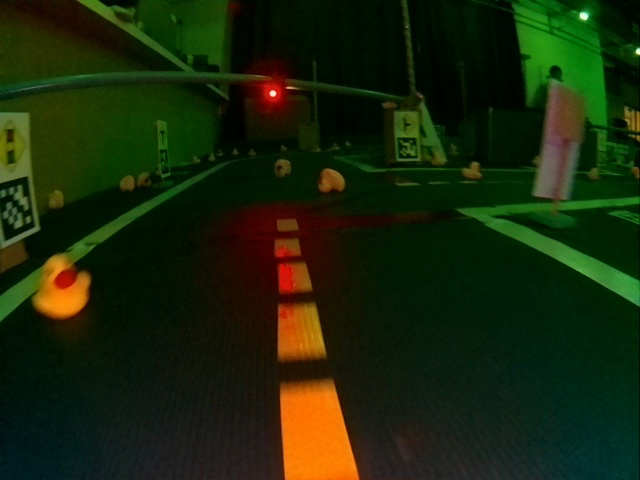Duckie: (41, 259, 89, 316), (318, 169, 345, 192), (462, 162, 481, 178), (274, 160, 291, 176), (49, 190, 63, 208), (119, 175, 133, 189), (138, 173, 149, 185), (208, 153, 217, 163), (232, 148, 240, 157), (249, 149, 257, 157)
Intersection sign: (397, 114, 417, 135), (159, 122, 167, 146)
QR code: (0, 176, 36, 243), (397, 137, 421, 160), (159, 148, 170, 175)
Signal sign: (0, 117, 27, 171)
Traffic light: (264, 76, 283, 101)
